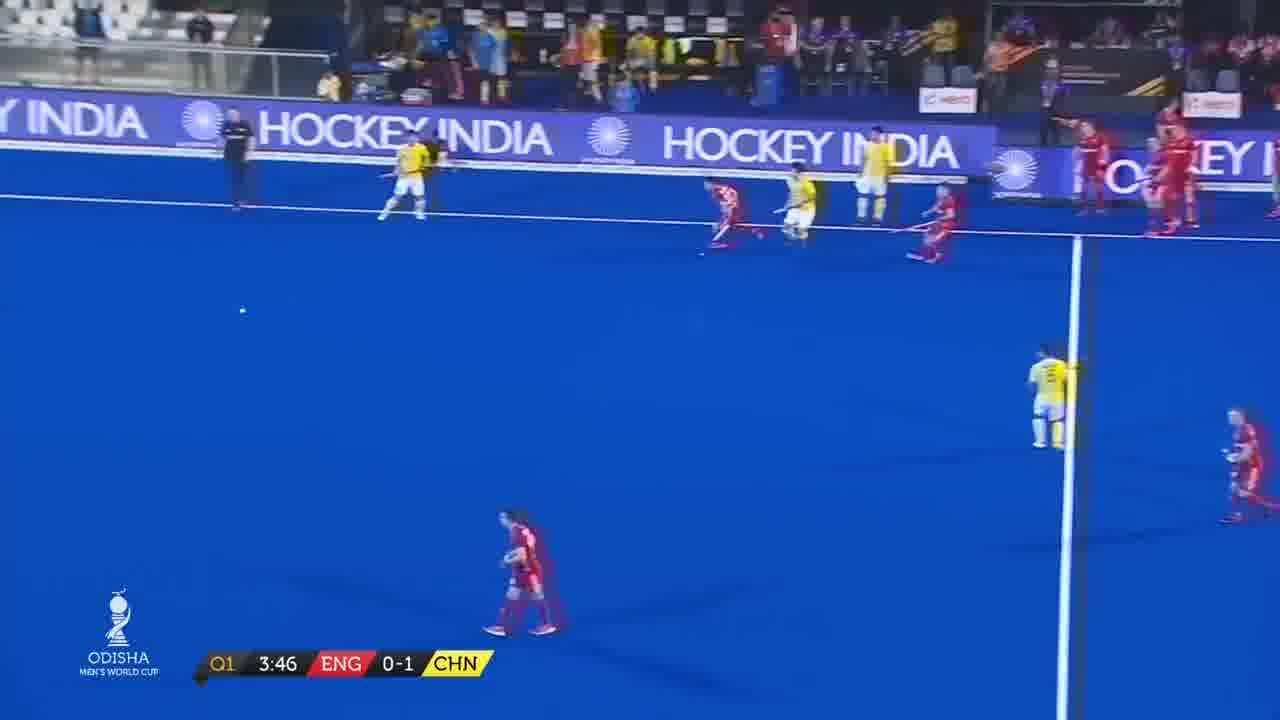ball: (223, 300, 260, 325)
